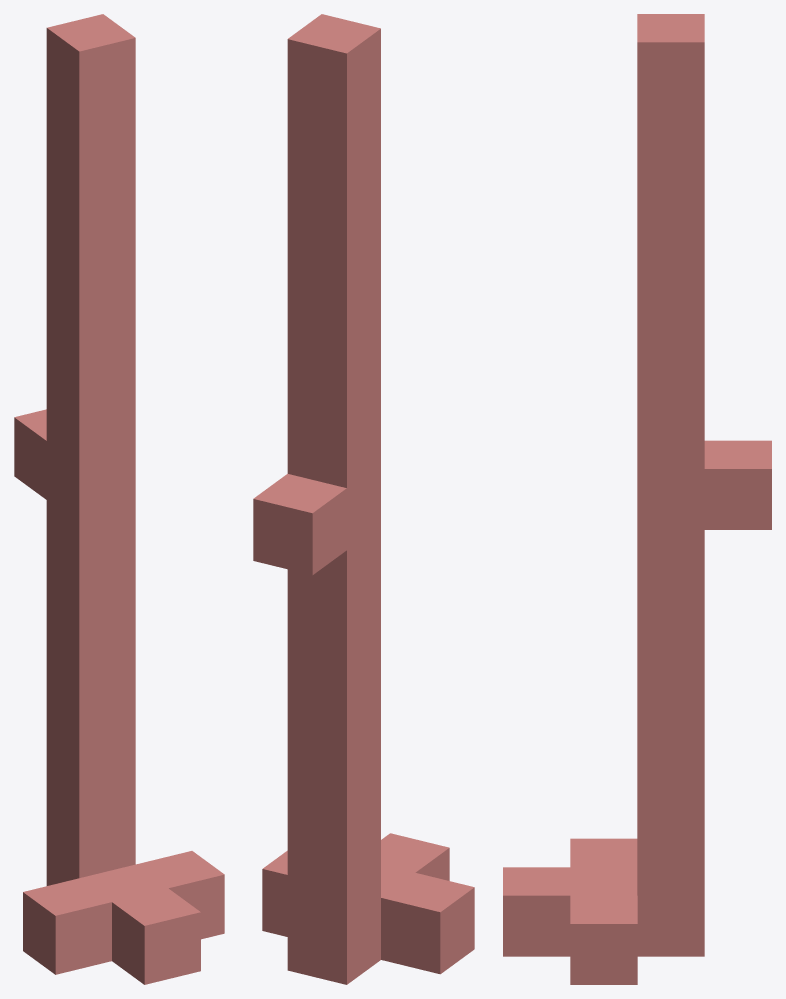
File: flamingo__leg_r.glb
3 renders of one model, left to right at view 1: azimuth 30°, elevation 25°; view 2: azimuth 150°, elevation 25°; view 3: azimuth 270°, elevation 25°, orthographic. The views are drawn at different scales.
Parts seen in each view (by area): view 1: flamingo__leg_r; view 2: flamingo__leg_r; view 3: flamingo__leg_r.
Boxes of the visible parts, bbox=[...] form: flamingo__leg_r: bbox=[14, 14, 224, 984]; flamingo__leg_r: bbox=[253, 14, 474, 984]; flamingo__leg_r: bbox=[503, 14, 771, 984].
Size of the model in its own units: 0.3 by 1.5 by 0.4.
1 material, 1 textured.
